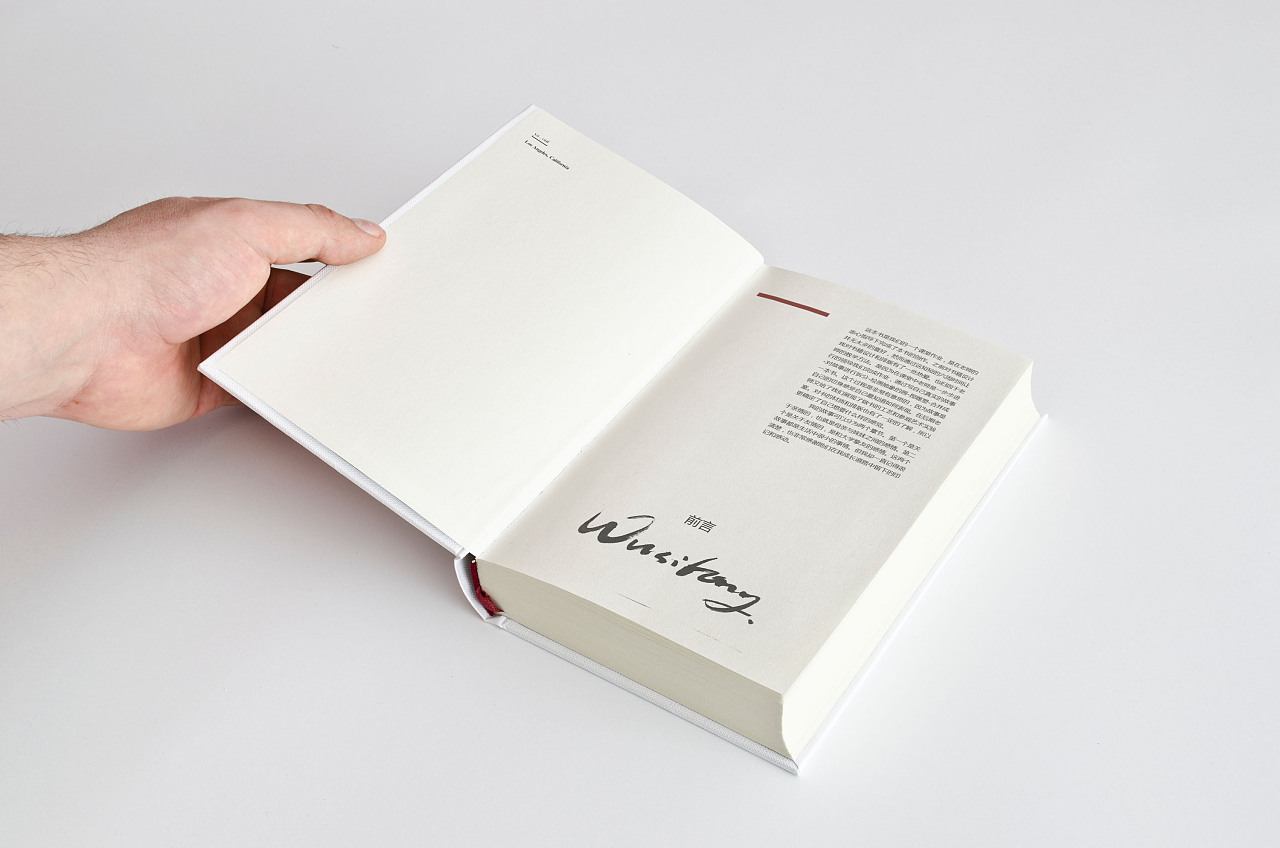book: (169, 93, 1059, 781)
